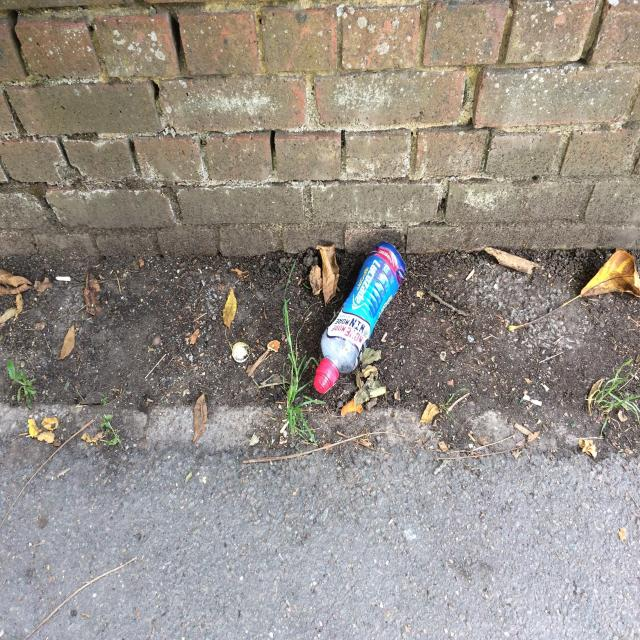less trash: (314, 242, 406, 393)
